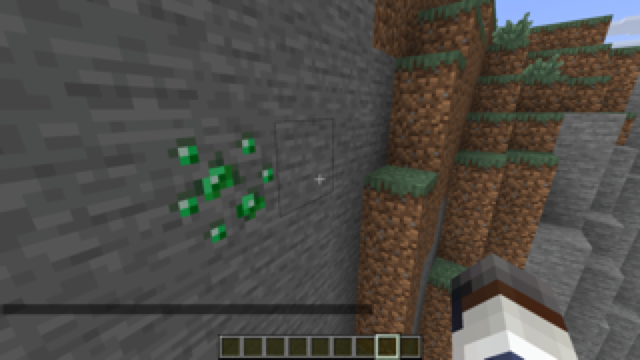emerald: (163, 135, 279, 251)
